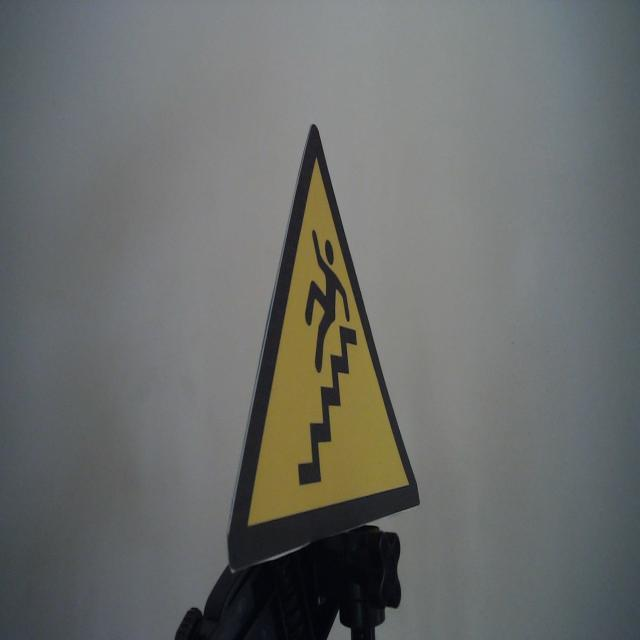stairs: (227, 121, 422, 580)
